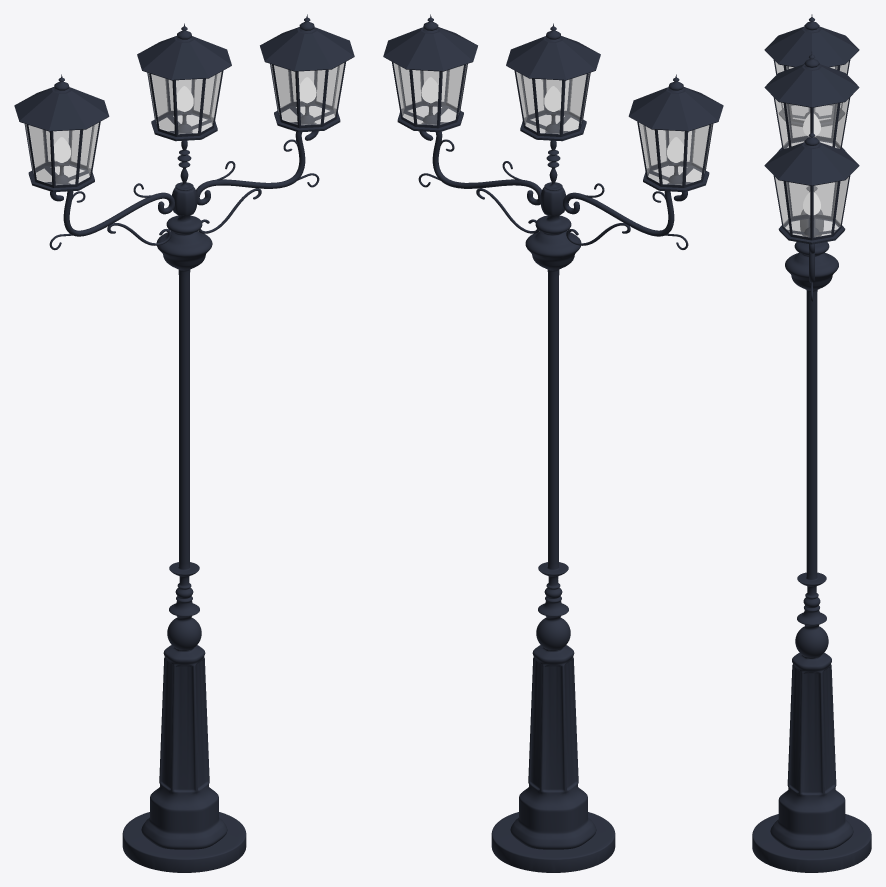
File: lantern.glb
3 renders of one model, left to right at view 1: azimuth 30°, elevation 25°; view 2: azimuth 150°, elevation 25°; view 3: azimuth 270°, elevation 25°, orthographic. The views are drawn at different scales.
Visible parts, largest first — view 1: Cylinder.001; view 2: Cylinder.001; view 3: Cylinder.001.
Boxes of the visible parts, x1,y1,x2,y2 form: Cylinder.001: (14,14,354,872); Cylinder.001: (383,14,723,872); Cylinder.001: (752,14,871,872).
Size of the model in its own units: 1.85 by 4.41 by 0.5996.
